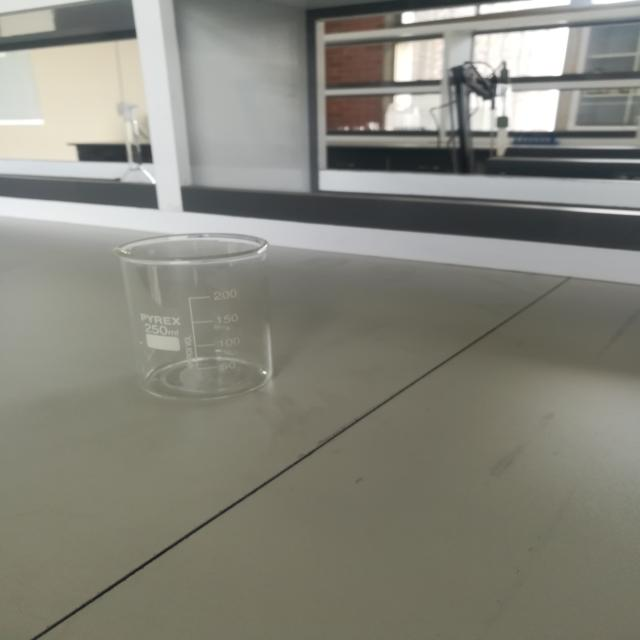Beaker: (95, 183, 323, 435)
